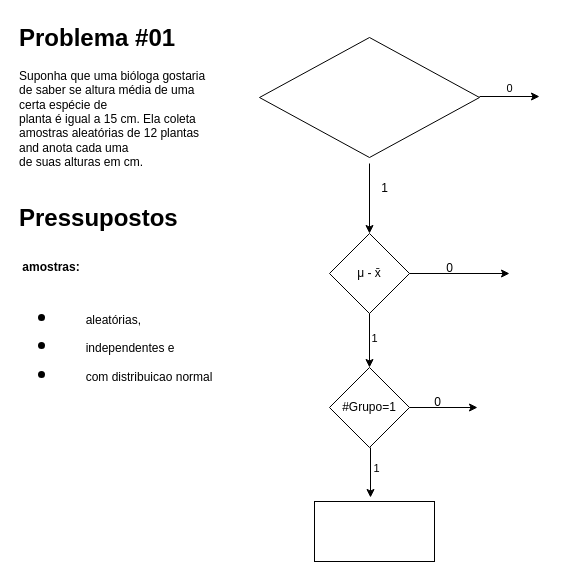
Some shapes in this 565 by 579 pixel diagram are drawn without their labels. The centre of each missing label's shape, as x and y in pixels:
"One Sample t-teste" goes at point (374, 531).
"y=altura ϵ real e (n=12) > 5" goes at point (369, 97).
